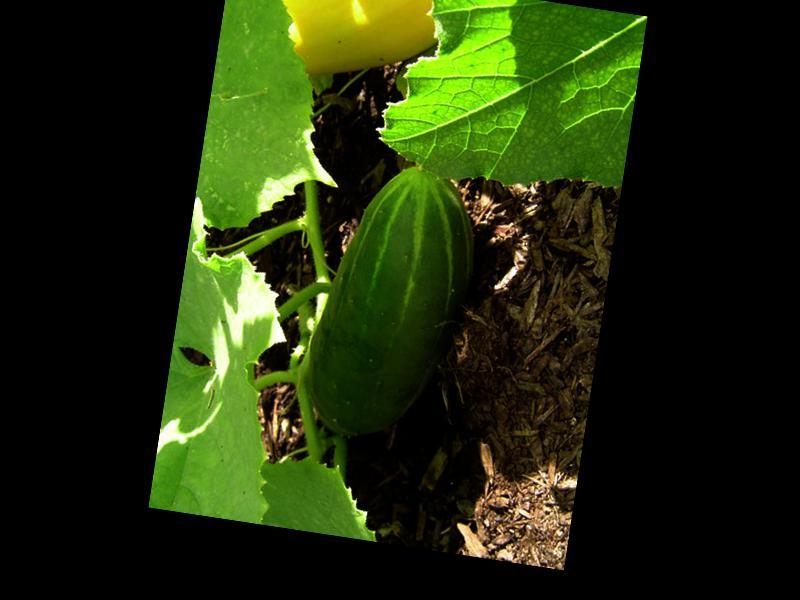Cucumber: (296, 153, 488, 452)
